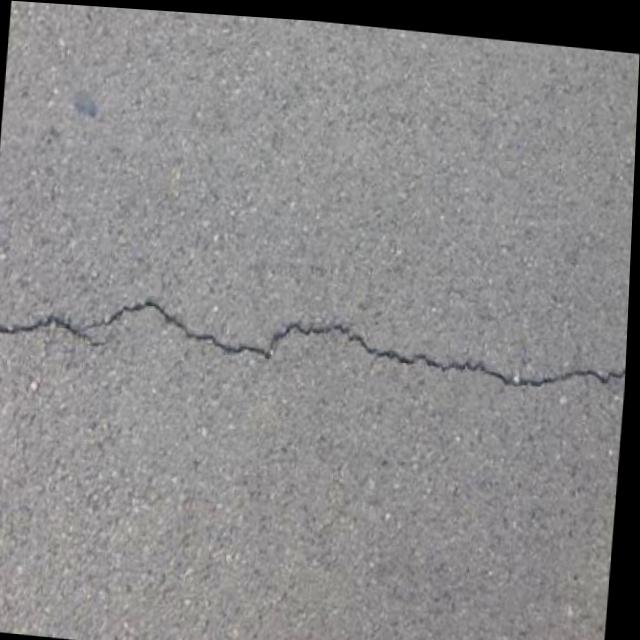Crack: (0, 261, 631, 412)
